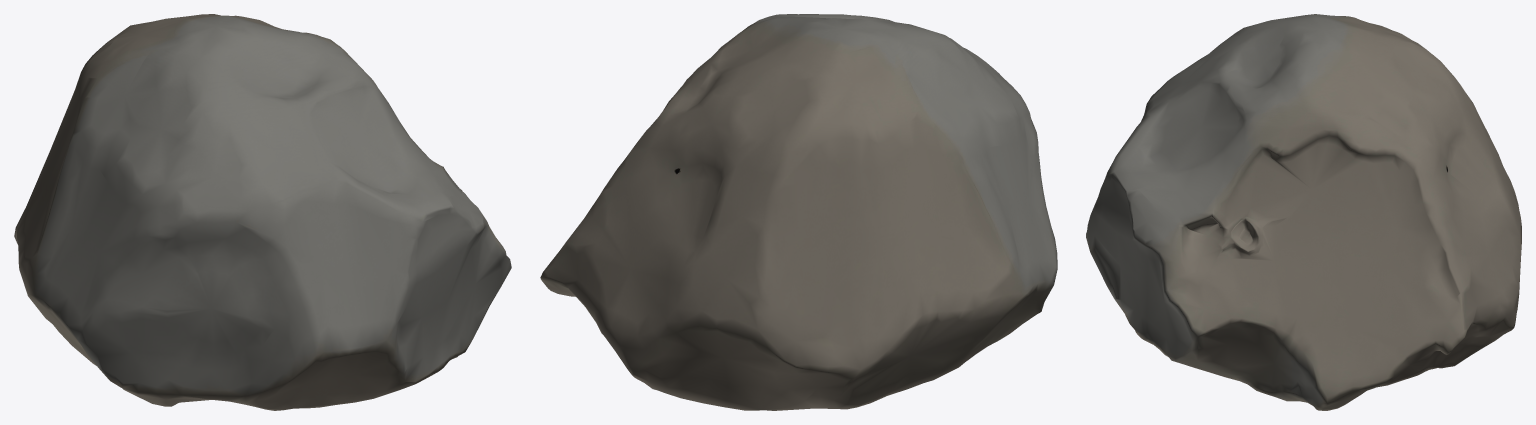
The model's file is 1792577838605-pedra.glb.
3 views of the same model, side by side, from view 1: azimuth 30°, elevation 25°; view 2: azimuth 150°, elevation 25°; view 3: azimuth 270°, elevation 25° (orthographic). The views are drawn at different scales.
Parts seen in each view (by area): view 1: tripo_node_cf6425f4-8b16-459a-a511-ddb43bd6db33; view 2: tripo_node_cf6425f4-8b16-459a-a511-ddb43bd6db33; view 3: tripo_node_cf6425f4-8b16-459a-a511-ddb43bd6db33.
Part boxes in pixels (bbox=[...]): tripo_node_cf6425f4-8b16-459a-a511-ddb43bd6db33: bbox=[14, 14, 511, 410]; tripo_node_cf6425f4-8b16-459a-a511-ddb43bd6db33: bbox=[540, 14, 1057, 410]; tripo_node_cf6425f4-8b16-459a-a511-ddb43bd6db33: bbox=[1086, 14, 1521, 410].
Bounding box in the file's own units: 0.998 × 0.7715 × 0.998.
Materials: 1 (1 with a texture image).
